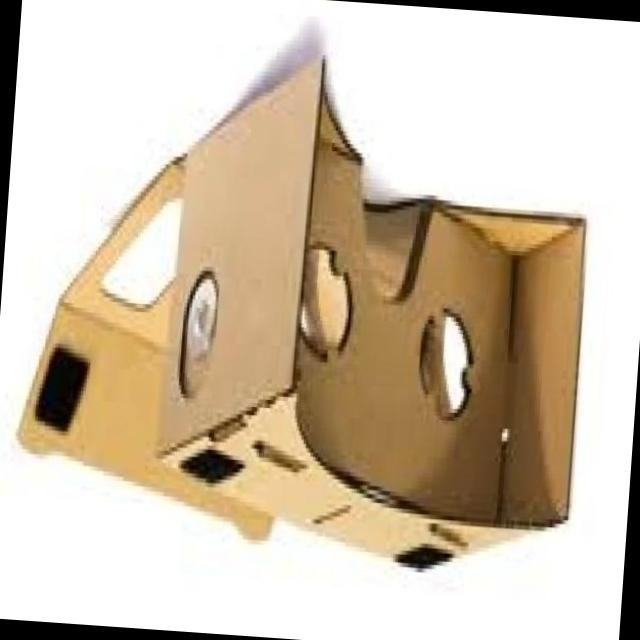cardboard paper: (18, 63, 582, 571)
